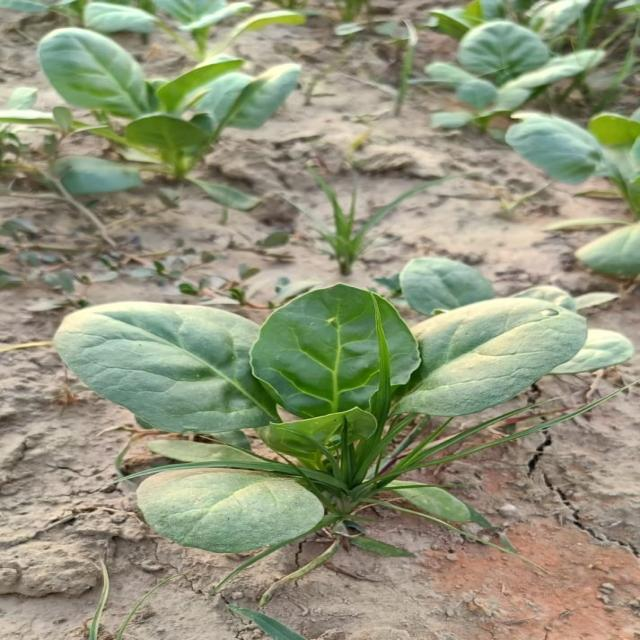plant: (53, 258, 633, 571), (38, 27, 299, 176), (54, 157, 140, 194)
